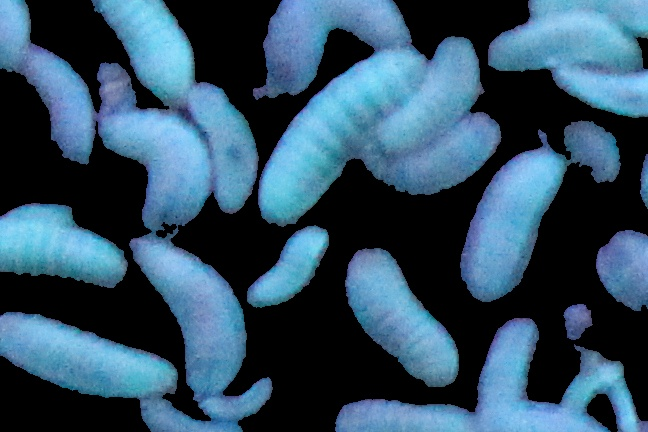larvae: (257, 51, 430, 224), (126, 234, 247, 396), (459, 145, 567, 301), (1, 309, 178, 402), (346, 249, 460, 388), (100, 111, 215, 230), (267, 1, 412, 88), (376, 39, 479, 153), (489, 10, 648, 78), (90, 1, 194, 104), (186, 79, 258, 213), (18, 45, 95, 166), (385, 114, 500, 193), (1, 217, 127, 287), (247, 224, 330, 309), (548, 63, 648, 120), (477, 316, 539, 406), (333, 394, 478, 432), (560, 359, 636, 431), (476, 402, 605, 432), (142, 398, 244, 432), (197, 374, 273, 415), (1, 1, 36, 73), (3, 201, 83, 232)
